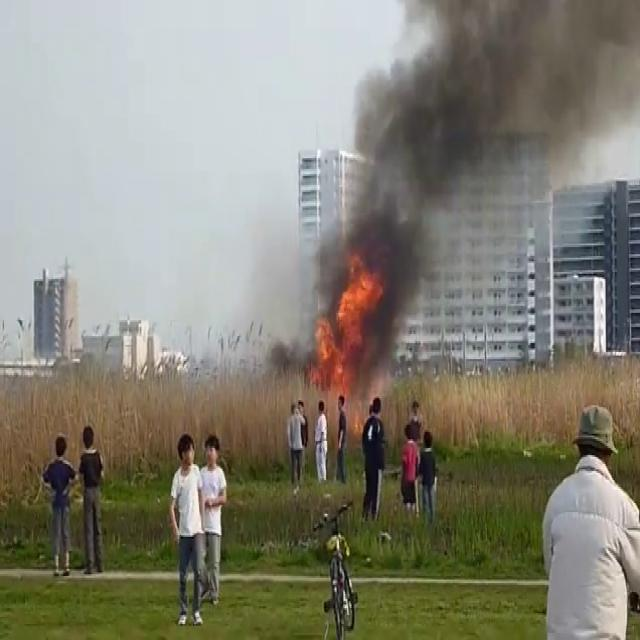Fire: (301, 255, 379, 396)
Smoke: (304, 0, 640, 341)
